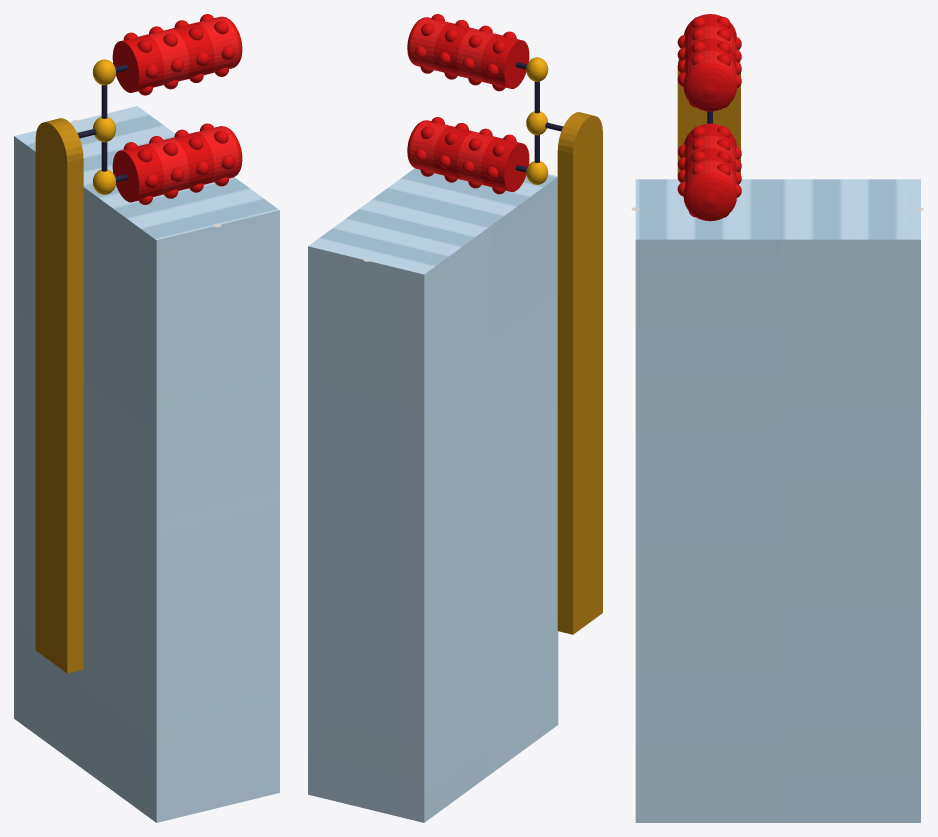
Rendered from 1_DIKENLI_ENGEL_PLATFORM.fbx.
The picture shows the model from 3 angles, left to right: view 1: azimuth 30°, elevation 25°; view 2: azimuth 150°, elevation 25°; view 3: azimuth 270°, elevation 25°; orthographic projection. The views are drawn at different scales.
Visible parts, largest first — view 1: road.002, hit_barrier.001, hit_barrier.002; view 2: road.002, hit_barrier.001, hit_barrier.002; view 3: road.002, hit_barrier.002, hit_barrier.001.
Part boxes in pixels (left/top/right/bottom): road.002: left=14, top=106, right=279, bottom=822; hit_barrier.001: left=35, top=118, right=83, bottom=673; hit_barrier.002: left=77, top=14, right=242, bottom=204; road.002: left=308, top=168, right=558, bottom=822; hit_barrier.001: left=557, top=112, right=602, bottom=634; hit_barrier.002: left=407, top=14, right=563, bottom=194; road.002: left=635, top=179, right=920, bottom=822; hit_barrier.002: left=677, top=14, right=741, bottom=221; hit_barrier.001: left=677, top=59, right=740, bottom=178.
Size of the model in its own units: 1886 by 7094 by 2487.
